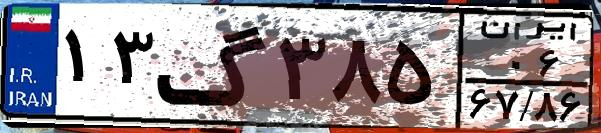0: (508, 27, 537, 80)
1: (57, 26, 110, 100)
3: (270, 28, 330, 110), (110, 28, 156, 98)
5: (385, 28, 445, 110)
6: (560, 70, 590, 125), (537, 27, 568, 80), (470, 70, 495, 125)
7: (495, 70, 520, 125)
8: (330, 28, 385, 110), (535, 70, 560, 125)
گ: (156, 12, 270, 120)
